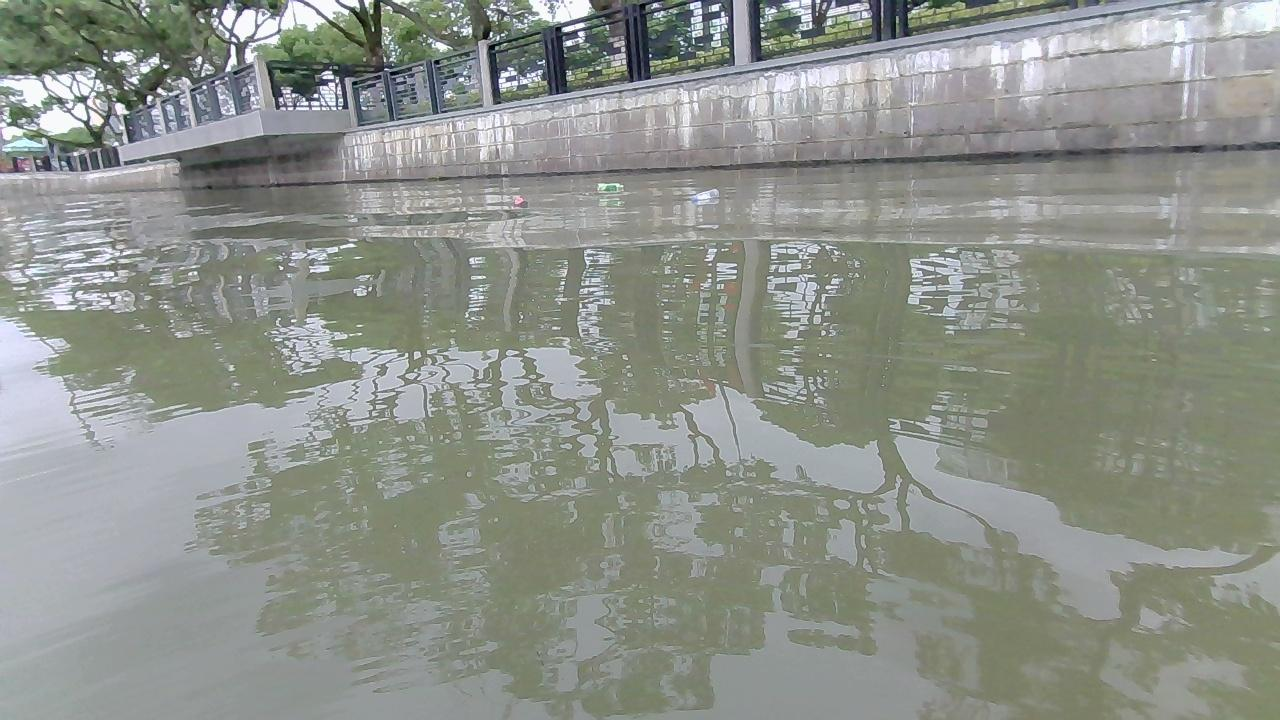bottle: (593, 181, 622, 195), (691, 189, 716, 205), (509, 193, 527, 208)
